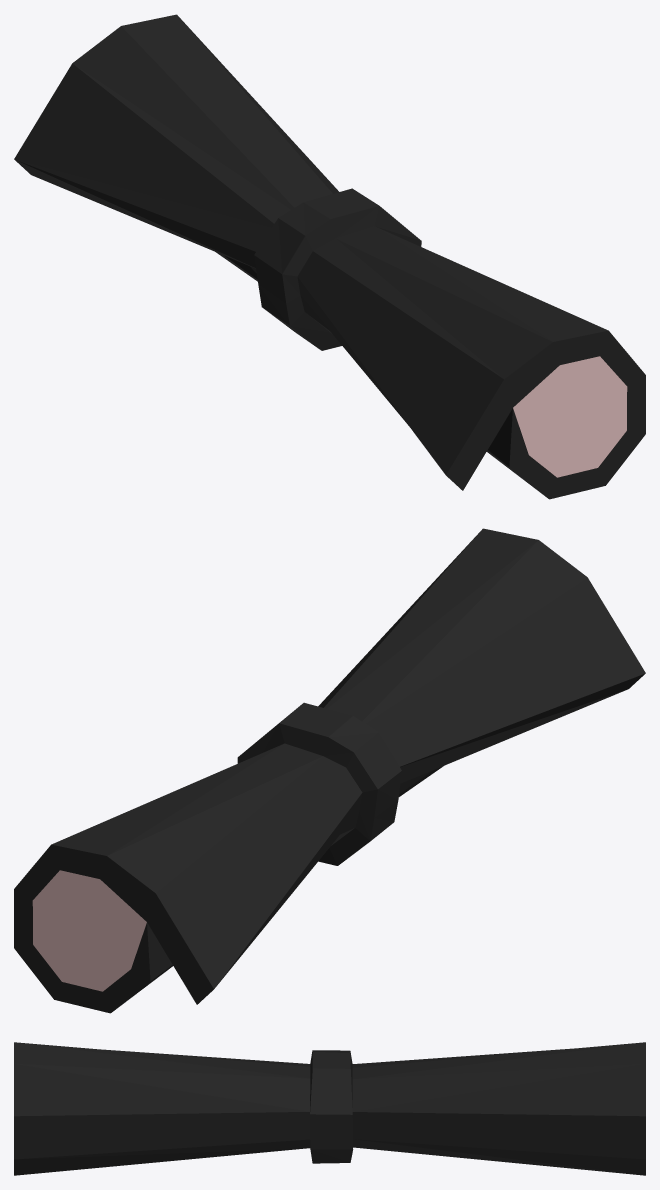
File: SM_Item_Map_Attachment_01.glb
3 views of the same model, one above another, from view 1: azimuth 30°, elevation 25°; view 2: azimuth 150°, elevation 25°; view 3: azimuth 270°, elevation 25° (orthographic). The views are drawn at different scales.
Visible parts, largest first — view 1: SM_Item_Map_Attachment_01_00; view 2: SM_Item_Map_Attachment_01_00; view 3: SM_Item_Map_Attachment_01_00.
Boxes of the visible parts, x1,y1,x2,y2 form: SM_Item_Map_Attachment_01_00: (14, 14, 645, 499); SM_Item_Map_Attachment_01_00: (14, 528, 645, 1013); SM_Item_Map_Attachment_01_00: (14, 1042, 645, 1175).
Bounding box in the file's own units: 0.1075 × 0.0804 × 0.4019.
1 material, 1 textured.
